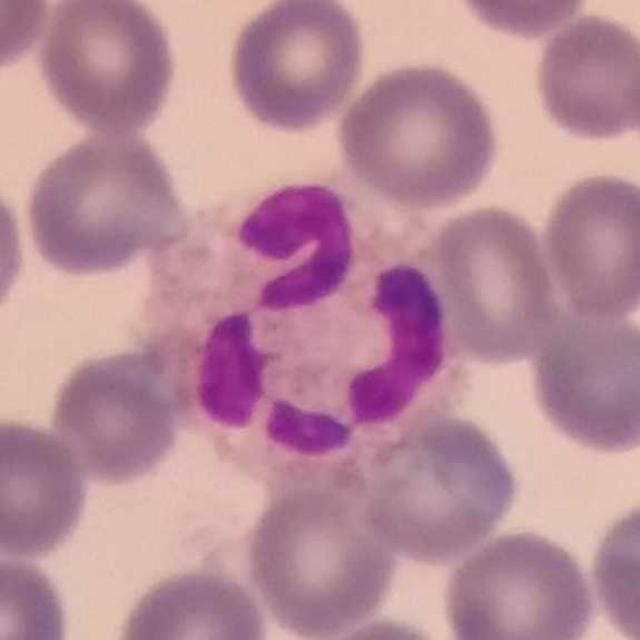Neutrophil: (157, 181, 458, 489)
